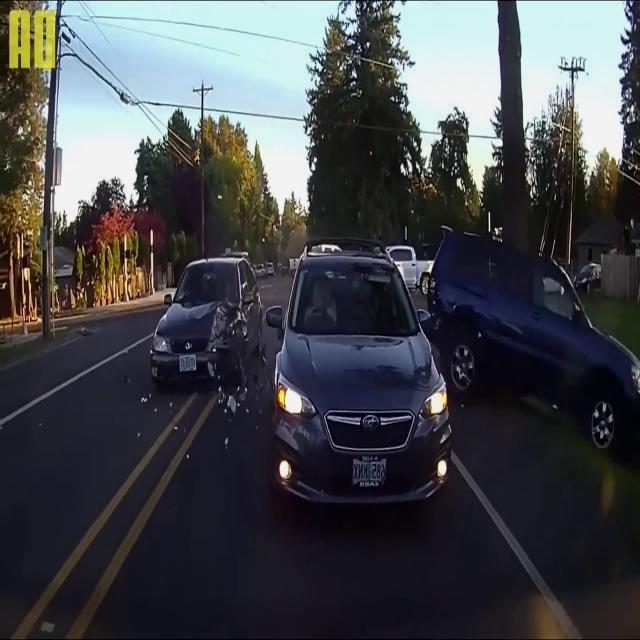accident: (426, 225, 640, 450), (132, 231, 270, 415)
